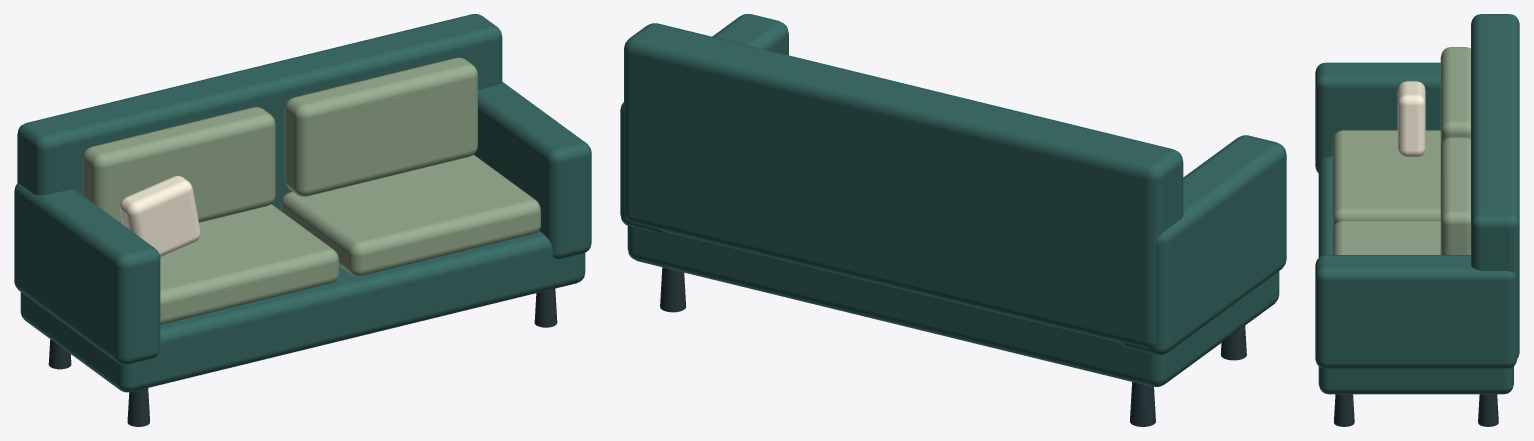
Rendered from sofa.glb.
The picture shows the model from 3 angles, left to right: view 1: azimuth 30°, elevation 25°; view 2: azimuth 150°, elevation 25°; view 3: azimuth 270°, elevation 25°; orthographic projection. The views are drawn at different scales.
Parts seen in each view (by area): view 1: back-cushion (×2), seat-cushion (×2), arm (×2), frame, back, throw-pillow, leg (×2); view 2: back, frame, arm (×2), leg (×3); view 3: arm (×2), seat-cushion (×2), back, frame, back-cushion (×2), throw-pillow, leg (×2).
Boxes of the visible parts, left/top/right/bottom form: back-cushion (×2): left=82, top=57, right=477, bottom=224; seat-cushion (×2): left=160, top=155, right=540, bottom=324; arm (×2): left=14, top=82, right=591, bottom=364; frame: left=20, top=231, right=585, bottom=392; back: left=17, top=14, right=502, bottom=210; throw-pillow: left=120, top=175, right=200, bottom=256; leg (×2): left=127, top=288, right=557, bottom=426; back: left=624, top=23, right=1183, bottom=348; frame: left=627, top=226, right=1279, bottom=386; arm (×2): left=620, top=14, right=1286, bottom=355; leg (×3): left=660, top=267, right=1246, bottom=426; arm (×2): left=1315, top=62, right=1517, bottom=368; seat-cushion (×2): left=1332, top=130, right=1440, bottom=254; back: left=1471, top=14, right=1519, bottom=358; frame: left=1318, top=156, right=1513, bottom=394; back-cushion (×2): left=1440, top=47, right=1470, bottom=254; throw-pillow: left=1397, top=81, right=1425, bottom=157; leg (×2): left=1334, top=394, right=1498, bottom=426.
Size of the model in its own units: 2.16 by 1.03 by 0.88.
